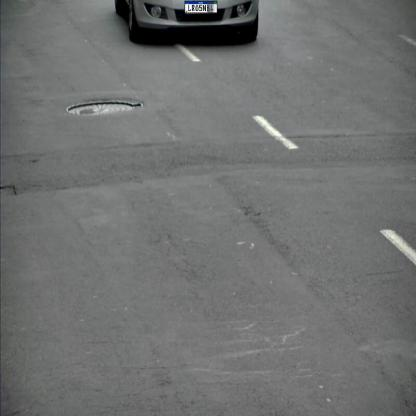PlacaM: (184, 1, 218, 13)
